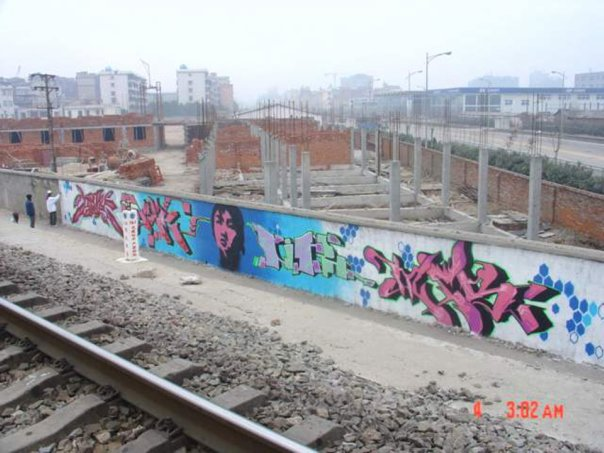graffity: (361, 237, 560, 355), (243, 217, 378, 311), (120, 192, 194, 255), (193, 204, 252, 270), (71, 183, 123, 233)
